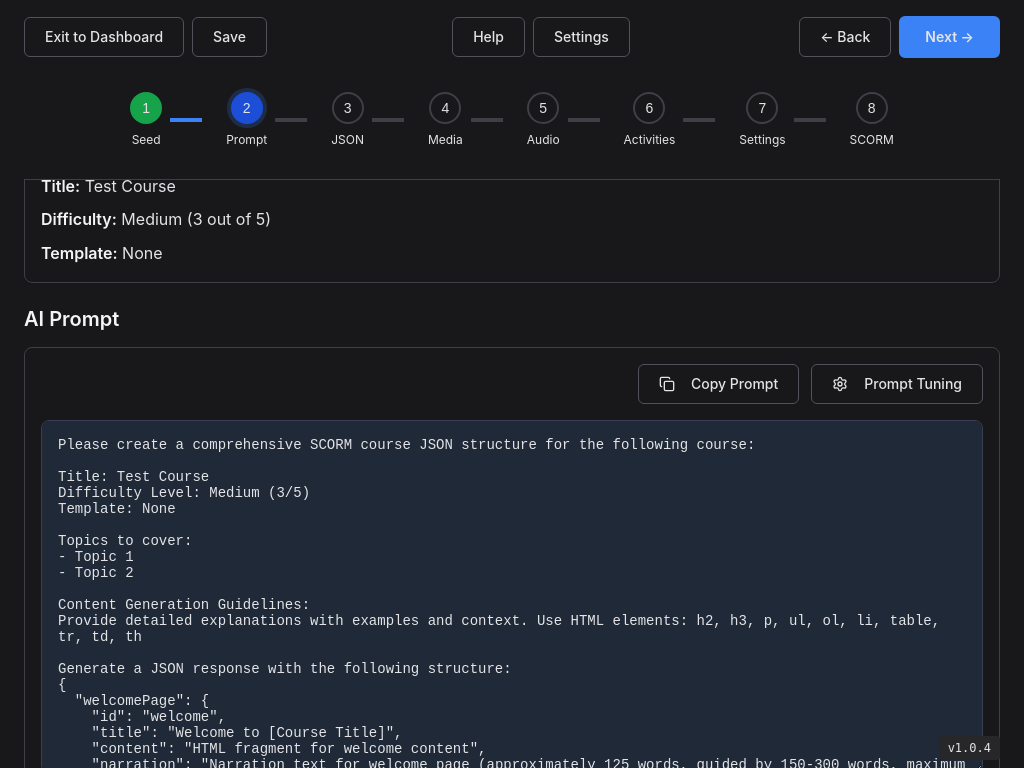
Test: AIPromptGenerator - Dashboard Navigation Blocking Issue › should show navigation warning dialog after copying prompt and attempting navigation
(page scrolled)
// **STEP 1: Copy the prompt (this triggers useFormChanges to track changes)**
Click the button with test id "copy-prompt-button-top": point(719, 384) [638, 364, 799, 404]
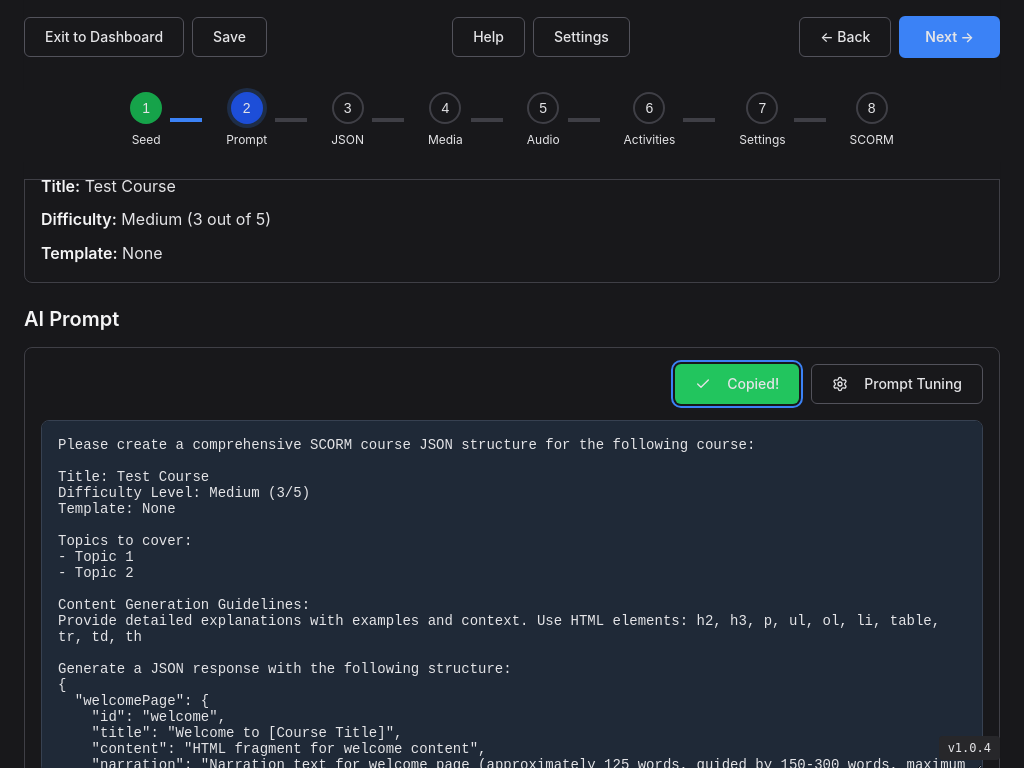
Click the button with test id "exit-button": point(104, 37) [24, 17, 184, 57]
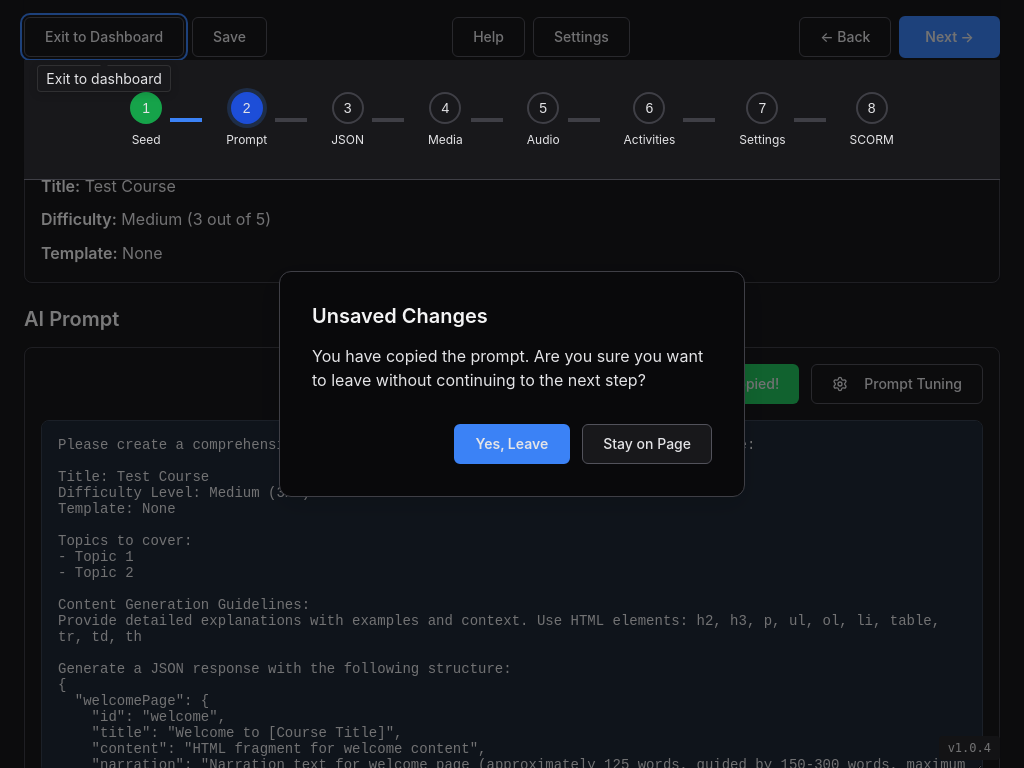
Expected: the dialog is shown
Expected: the heading "Unsaved Changes" is shown, [312, 304, 488, 328]
Expected: the button with test id "confirm-navigation" is shown
// **STEP 4: Test confirming navigation**
Click the button with test id "confirm-navigation": point(512, 444) [454, 424, 570, 464]
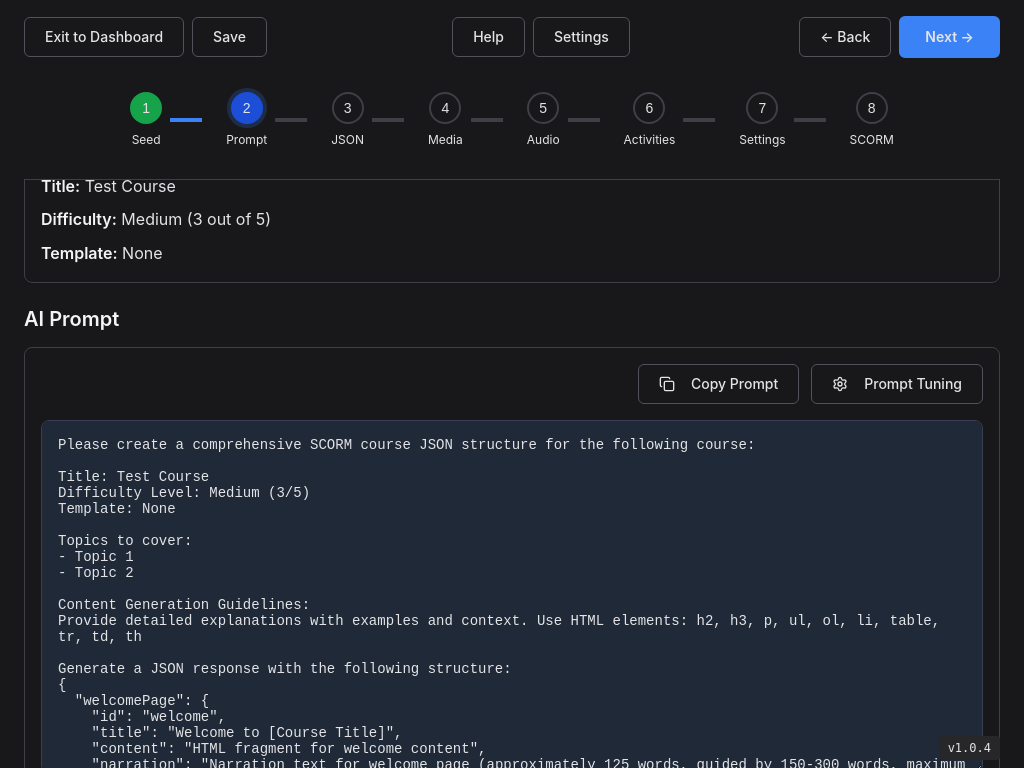
Expected: the dialog is gone
